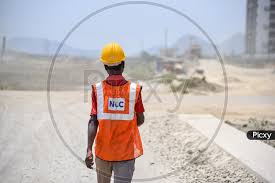helmet: (97, 38, 127, 67)
vest: (92, 83, 147, 163)
